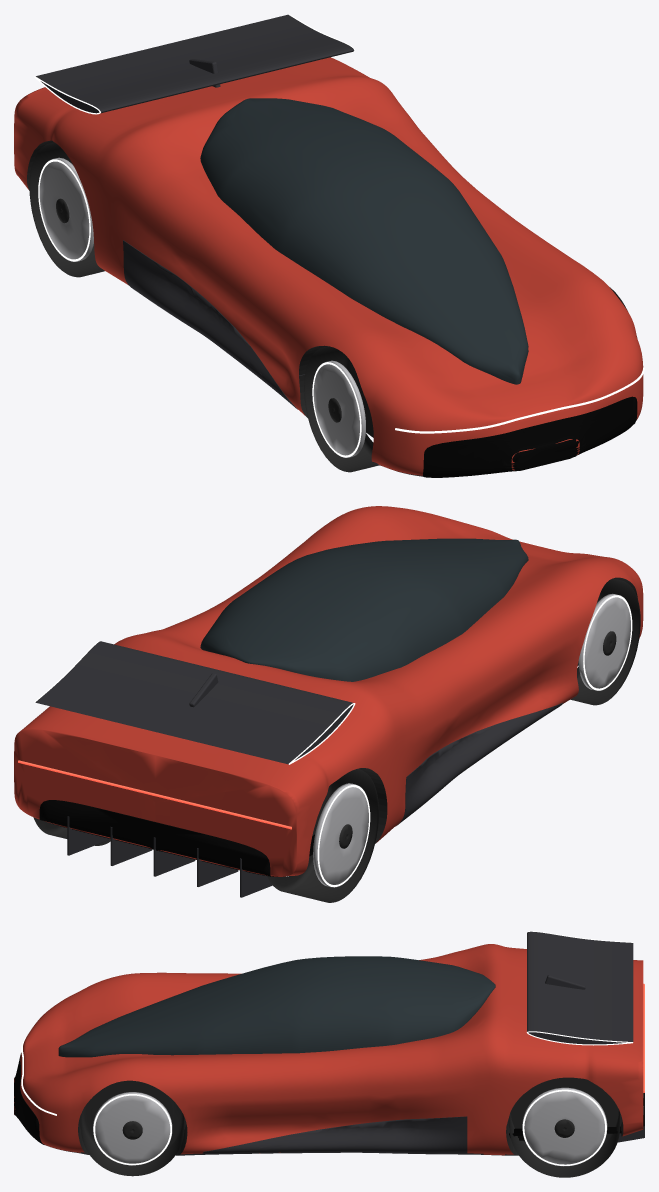
File: hypercar.glb
3 renders of one model, top to bottom at view 1: azimuth 30°, elevation 25°; view 2: azimuth 150°, elevation 25°; view 3: azimuth 270°, elevation 25°, orthographic. The views are drawn at different scales.
Parts seen in each view (by area): view 1: Body, Glass_Front, Loose_Wing, Loose_Intake, Wheel_RR, Wheel_FR, Light_F1; view 2: Body, Glass_Front, Loose_Wing, Loose_Diffuser, Wheel_RR, Wheel_FR, Light_R1; view 3: Body, Glass_Front, Loose_Wing, Wheel_RL, Wheel_FL, Loose_Intake, Loose_Diffuser.
Boxes of the visible parts, box(x1,y1,x2,y2) form: Body: box(14, 57, 643, 476); Glass_Front: box(200, 98, 528, 384); Loose_Wing: box(34, 14, 355, 114); Loose_Intake: box(423, 396, 637, 477); Wheel_RR: box(29, 142, 104, 277); Wheel_FR: box(304, 346, 378, 472); Light_F1: box(395, 367, 644, 433); Body: box(14, 506, 643, 876); Glass_Front: box(200, 538, 528, 681); Loose_Wing: box(34, 641, 355, 764); Loose_Diffuser: box(39, 800, 314, 897); Wheel_RR: box(267, 768, 378, 902); Wheel_FR: box(570, 578, 640, 705); Light_R1: box(18, 760, 291, 829); Body: box(14, 944, 643, 1155); Glass_Front: box(58, 956, 495, 1057); Loose_Wing: box(526, 931, 633, 1045); Wheel_RL: box(509, 1087, 619, 1177); Wheel_FL: box(81, 1088, 184, 1176); Loose_Intake: box(14, 1053, 44, 1144); Loose_Diffuser: box(509, 1093, 644, 1142).
Size of the model in its own units: 2.05 by 1.25 by 4.72.
